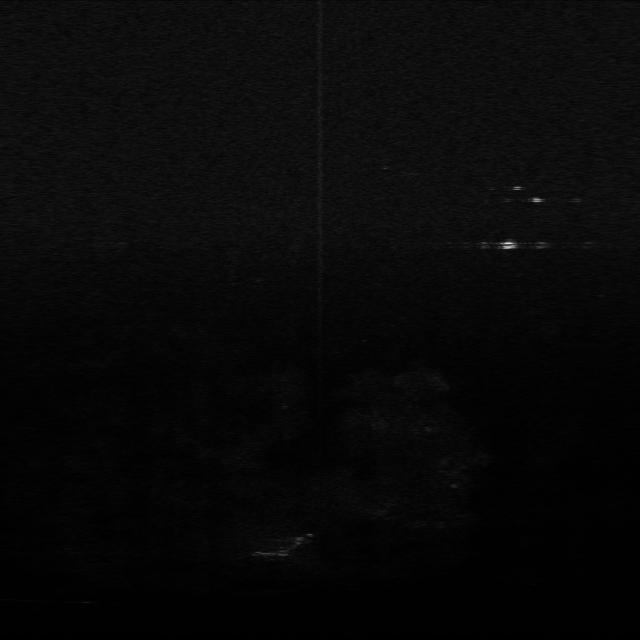rov: (492, 232, 524, 252)
